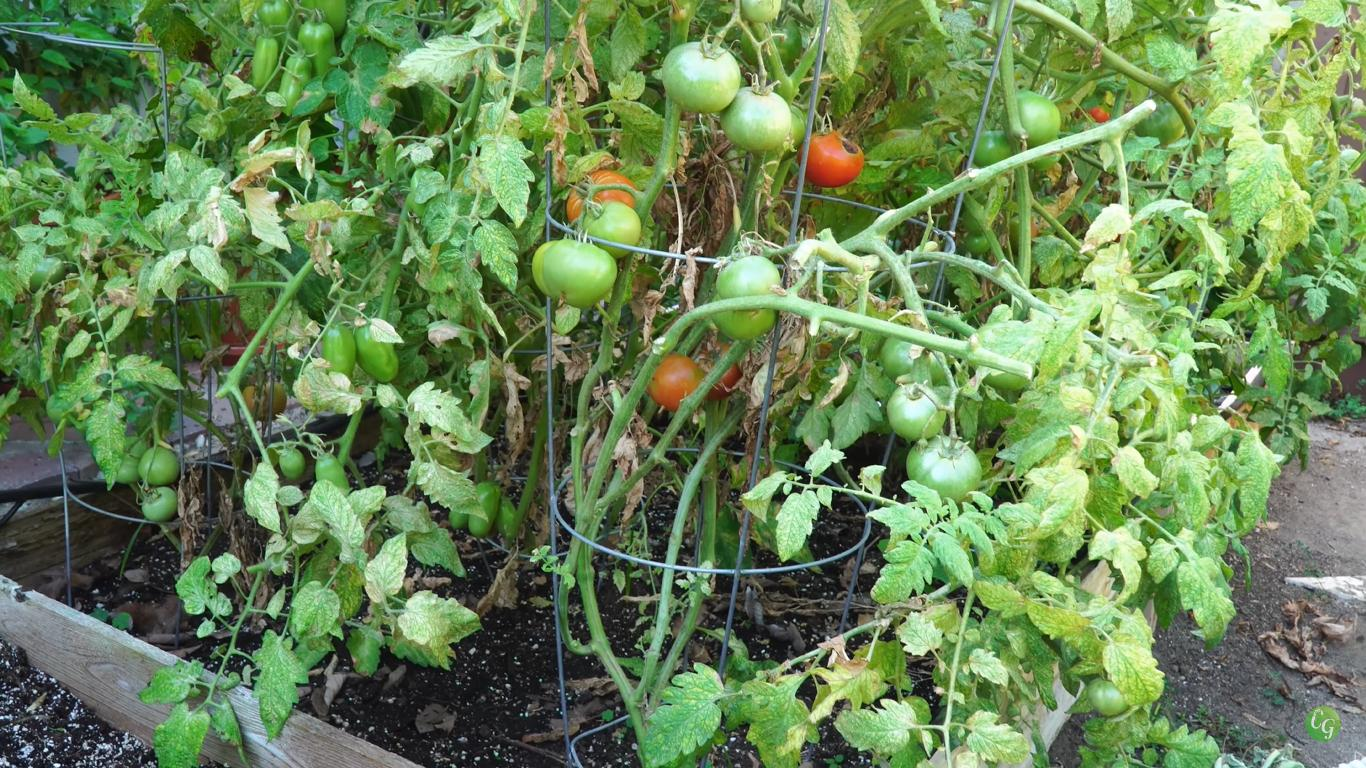Spider Mites: (641, 660, 723, 768), (1224, 122, 1293, 240), (740, 677, 820, 768), (250, 625, 309, 744), (1035, 286, 1102, 382), (475, 131, 537, 229), (308, 476, 371, 570), (1010, 466, 1090, 540), (1178, 556, 1240, 650), (1225, 430, 1275, 543), (397, 588, 486, 648), (801, 0, 863, 85), (831, 697, 917, 757), (393, 29, 480, 88), (1207, 6, 1272, 83), (416, 458, 490, 525), (1103, 633, 1166, 707), (1087, 525, 1142, 607), (406, 379, 476, 443), (869, 540, 937, 604), (152, 700, 211, 768), (85, 398, 127, 491), (471, 217, 521, 295), (965, 707, 1031, 765), (1162, 452, 1211, 528), (174, 556, 234, 617), (289, 369, 362, 418), (135, 655, 205, 706), (363, 530, 408, 605), (51, 352, 108, 411), (774, 490, 820, 563), (290, 579, 342, 642), (409, 524, 468, 579), (1026, 595, 1092, 644), (242, 459, 284, 535), (1023, 627, 1060, 713), (1077, 202, 1134, 257), (1142, 29, 1198, 84), (928, 531, 976, 591), (210, 694, 250, 765), (117, 351, 186, 392), (1110, 445, 1160, 499), (11, 68, 58, 121), (741, 470, 786, 524), (383, 492, 440, 534), (865, 501, 931, 536), (971, 579, 1026, 620), (895, 610, 944, 656), (189, 243, 231, 296), (941, 6, 978, 56), (147, 249, 185, 297), (345, 484, 386, 528), (970, 647, 1010, 688), (1146, 537, 1180, 585), (1291, 0, 1348, 28), (1191, 412, 1231, 448), (59, 329, 92, 371), (1104, 0, 1134, 45), (1113, 374, 1147, 412), (413, 167, 445, 205), (161, 149, 186, 196), (104, 306, 135, 343), (68, 215, 112, 237), (370, 318, 405, 345)
